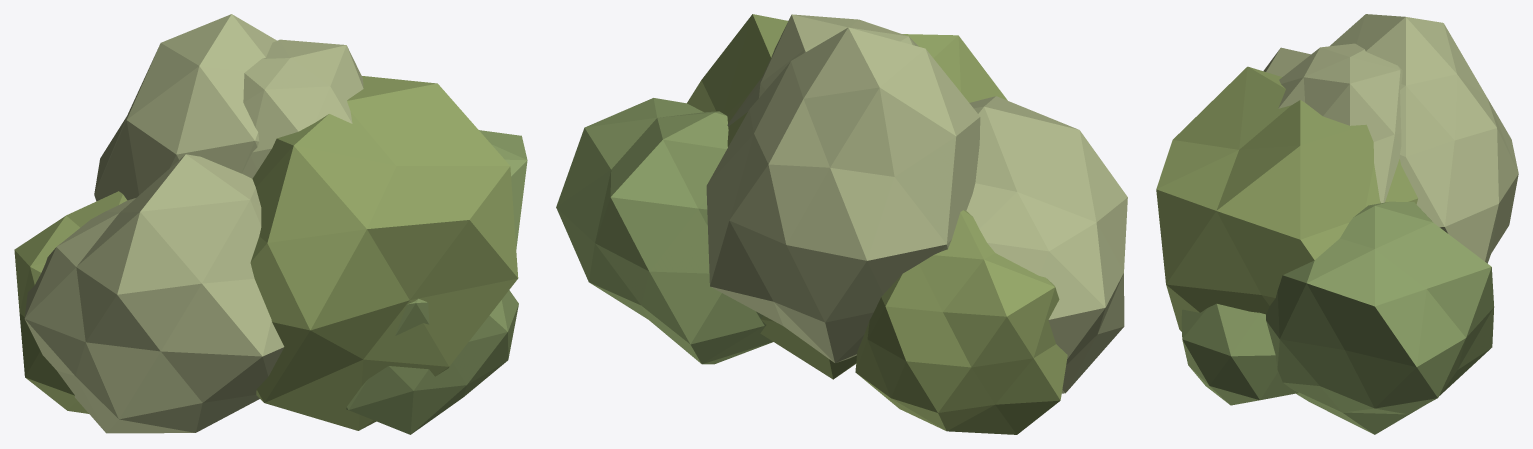
File: bush_round_b.glb
3 renders of one model, left to right at view 1: azimuth 30°, elevation 25°; view 2: azimuth 150°, elevation 25°; view 3: azimuth 270°, elevation 25°, orthographic. The views are drawn at different scales.
Parts seen in each view (by area): view 1: bush_round_b; view 2: bush_round_b; view 3: bush_round_b.
Boxes of the visible parts, left/top/right/bottom form: bush_round_b: left=14, top=14, right=527, bottom=434; bush_round_b: left=556, top=14, right=1127, bottom=434; bush_round_b: left=1156, top=14, right=1518, bottom=434.
Bounding box in the file's own units: 1.77 × 1.25 × 1.17.
